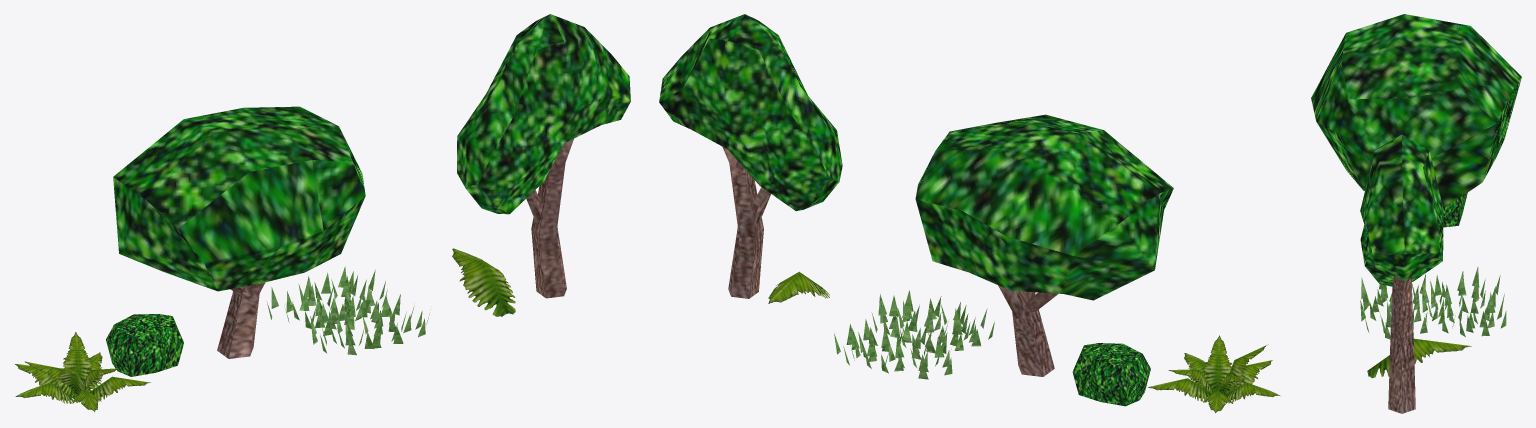
3 views of the same model, side by side, from view 1: azimuth 30°, elevation 25°; view 2: azimuth 150°, elevation 25°; view 3: azimuth 270°, elevation 25° (orthographic). The views are drawn at different scales.
Parts seen in each view (by area): view 1: Cube.011_2, Cube.001_0, Cube.008_4, Cube.006_5, Cube.010_3, Cube.012_1; view 2: Cube.011_2, Cube.001_0, Cube.008_4, Cube.006_5, Cube.010_3, Cube.012_1; view 3: Cube.011_2, Cube.001_0, Cube.008_4, Cube.012_1, Cube.010_3.
Boxes of the visible parts, x1=… form: Cube.011_2: x1=113, y1=106, x2=365, y2=358; Cube.001_0: x1=457, y1=14, x2=630, y2=298; Cube.008_4: x1=266, y1=266, x2=429, y2=355; Cube.006_5: x1=15, y1=332, x2=150, y2=411; Cube.010_3: x1=106, y1=314, x2=183, y2=376; Cube.012_1: x1=452, y1=248, x2=515, y2=316; Cube.011_2: x1=915, y1=114, x2=1173, y2=376; Cube.001_0: x1=659, y1=14, x2=842, y2=298; Cube.008_4: x1=834, y1=290, x2=994, y2=379; Cube.006_5: x1=1148, y1=335, x2=1280, y2=412; Cube.010_3: x1=1072, y1=343, x2=1150, y2=406; Cube.012_1: x1=768, y1=271, x2=829, y2=303; Cube.011_2: x1=1311, y1=14, x2=1521, y2=208; Cube.001_0: x1=1360, y1=134, x2=1443, y2=413; Cube.008_4: x1=1360, y1=267, x2=1506, y2=339; Cube.012_1: x1=1367, y1=338, x2=1471, y2=378; Cube.010_3: x1=1443, y1=192, x2=1467, y2=227.
Size of what is drawn, in the model's own units: 15.18 by 6.55 by 4.61.
Materials: 4 (4 with a texture image).
